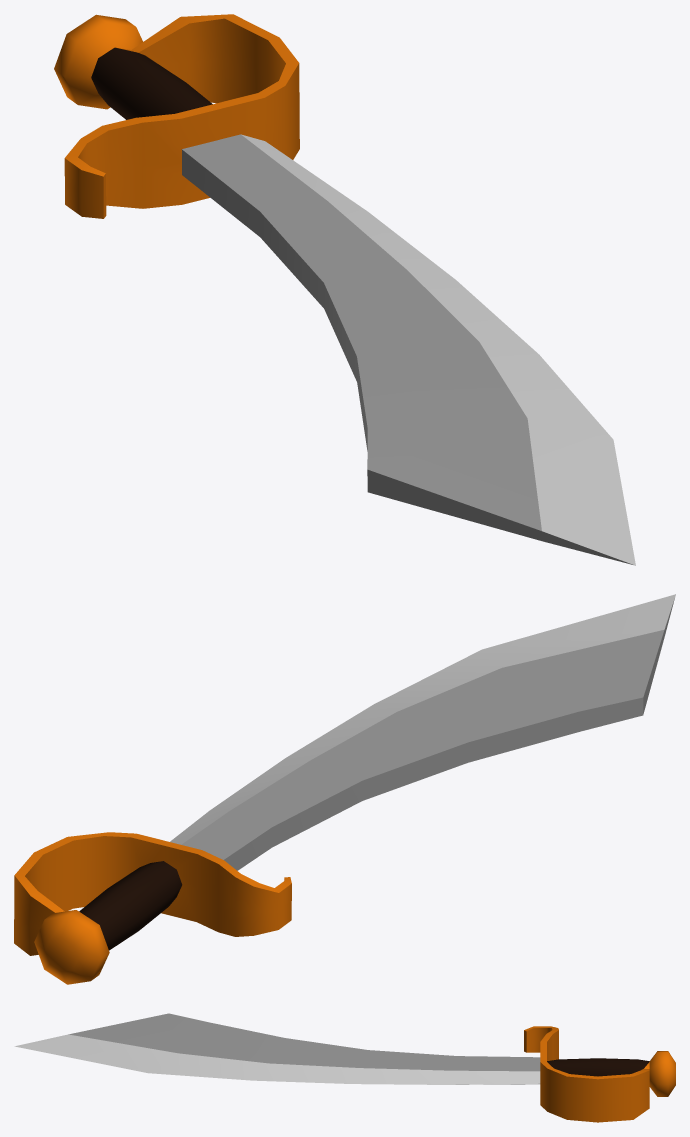
File: Cutlass.FBX
The picture shows the model from 3 angles, top to bottom: view 1: azimuth 30°, elevation 25°; view 2: azimuth 150°, elevation 25°; view 3: azimuth 270°, elevation 25°; orthographic projection. The views are drawn at different scales.
Parts seen in each view (by area): view 1: Cutlass; view 2: Cutlass; view 3: Cutlass.
Part boxes in pixels (<box>): Cutlass: <box>54,14,635,565</box>; Cutlass: <box>14,594,675,984</box>; Cutlass: <box>14,1013,675,1122</box>.
Size of the model in its own units: 12.63 by 3.11 by 42.38.
